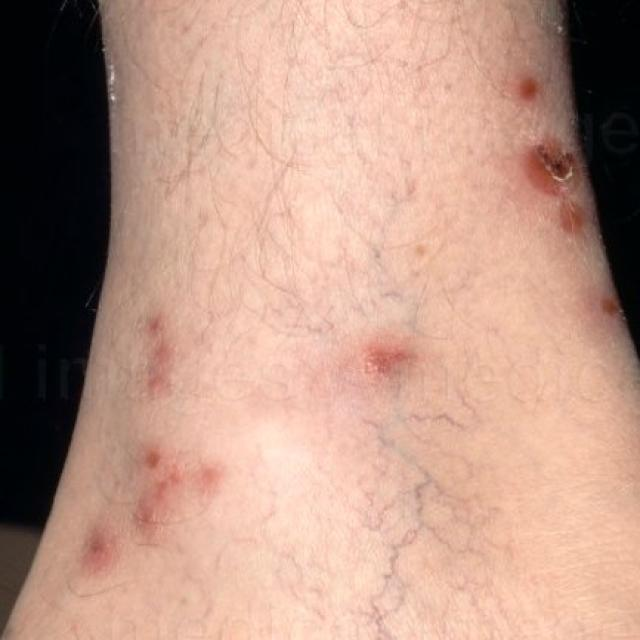kan emici bocekler: (347, 328, 488, 439), (117, 290, 229, 415), (503, 134, 615, 249), (42, 520, 154, 589), (120, 449, 229, 506), (460, 69, 556, 112)
